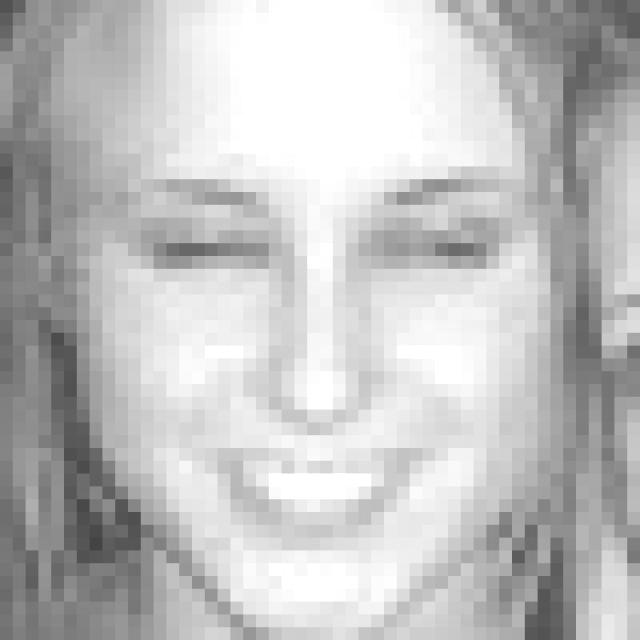real: (80, 1, 567, 640), (122, 186, 516, 302)
